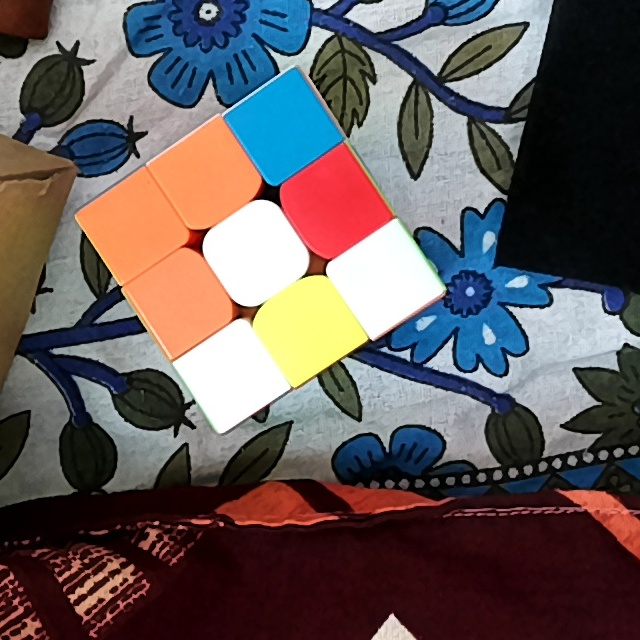tile: (299, 172, 365, 233), (251, 97, 316, 155), (181, 141, 239, 203), (353, 250, 412, 309), (229, 223, 289, 281), (201, 349, 259, 404), (150, 271, 209, 325), (106, 198, 161, 253), (282, 300, 336, 353)
